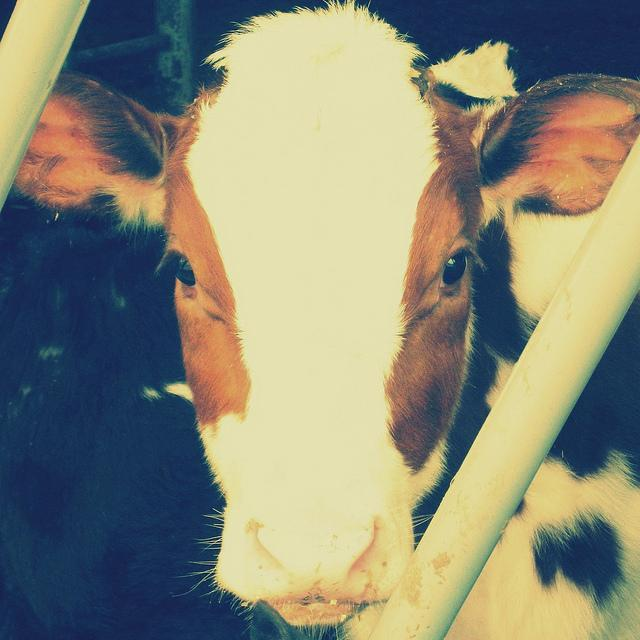cow: (25, 7, 639, 626)
